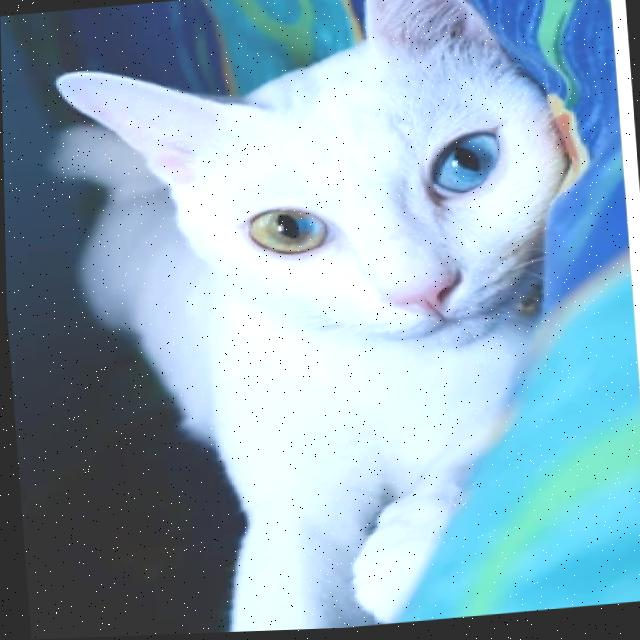Khao Manee: (24, 0, 599, 639)
